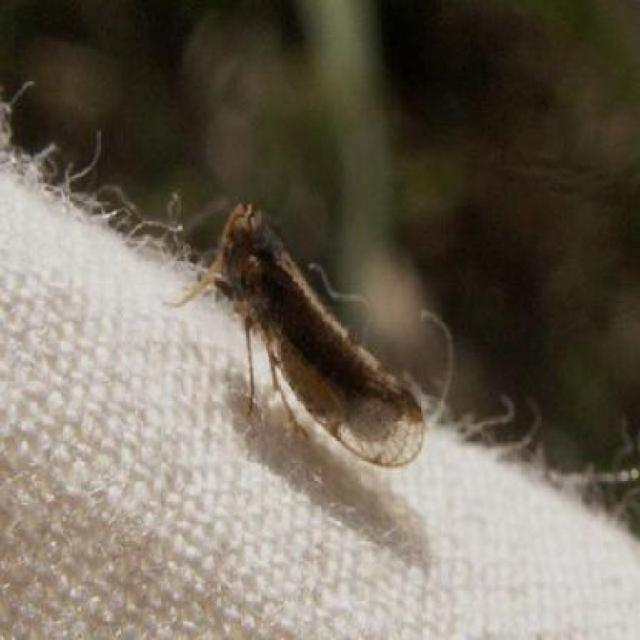brown-planthopper: (195, 203, 428, 470)
